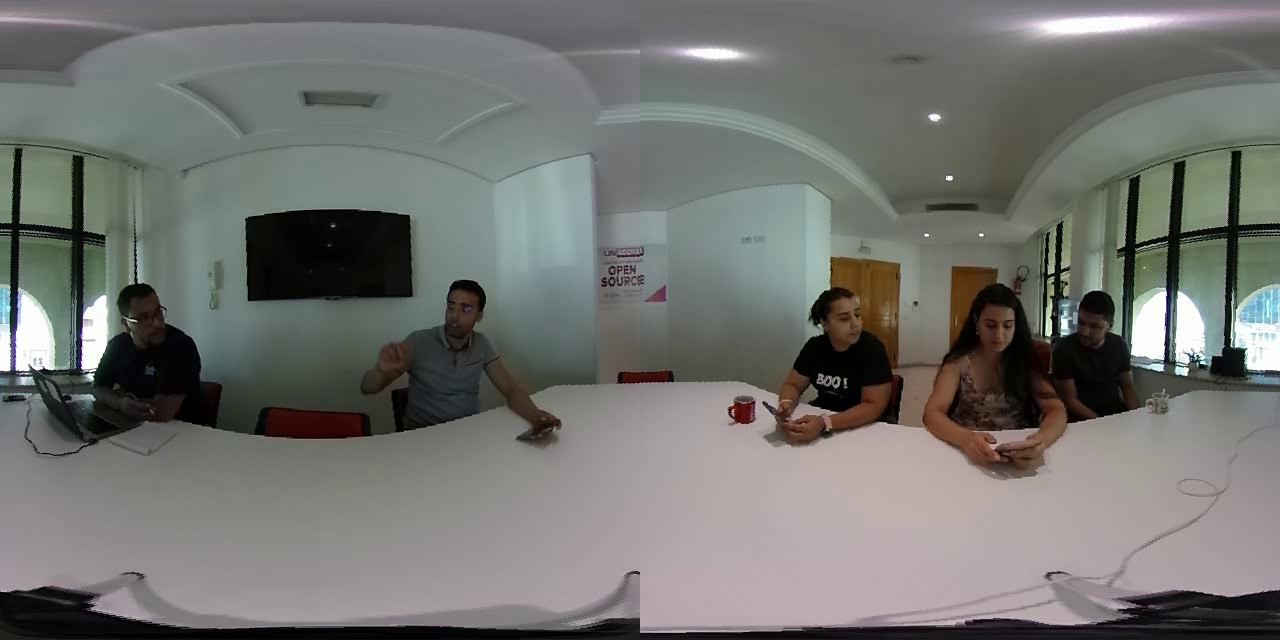person: (374, 259, 513, 437), (926, 277, 1044, 451), (780, 280, 895, 443), (95, 268, 201, 417), (1046, 271, 1142, 426)
